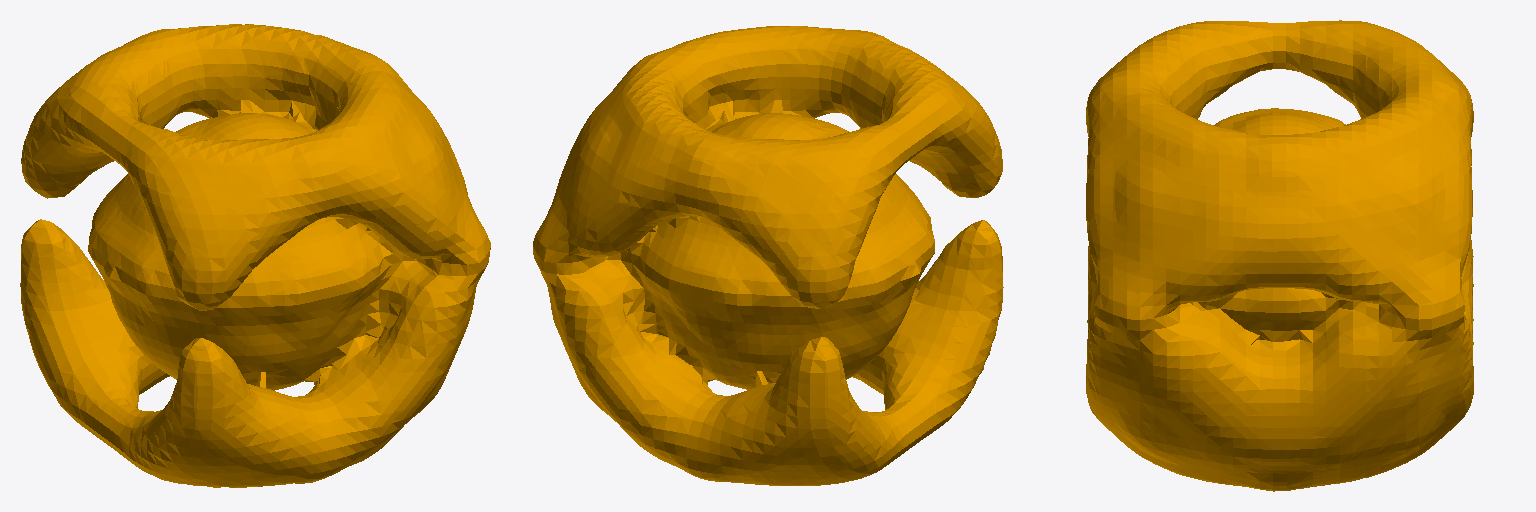
robot.urdf — object:
<?xml version="1.0"?>
<robot name="object">
  <link name="object">
    <visual>
      <origin xyz="0 0 0"/>
      <geometry>
        <mesh filename="meshes/subset_100_scaled/egad_F15_3_s.obj" scale=".03 .03 .03"/>
      </geometry>
    </visual>
    <collision>
  <origin xyz="0 0 0"/>
  <geometry>
    <mesh filename="meshes/subset_100_scaled/egad_F15_3_s_0decompose.obj" scale=".03 .03 .03"/>
<!--          <mesh filename="meshes/custom/obj0_ball.obj" scale=".05 .05 .05"/>-->
  </geometry>
</collision><collision>
  <origin xyz="0 0 0"/>
  <geometry>
    <mesh filename="meshes/subset_100_scaled/egad_F15_3_s_1decompose.obj" scale=".03 .03 .03"/>
<!--          <mesh filename="meshes/custom/obj0_ball.obj" scale=".05 .05 .05"/>-->
  </geometry>
</collision><collision>
  <origin xyz="0 0 0"/>
  <geometry>
    <mesh filename="meshes/subset_100_scaled/egad_F15_3_s_2decompose.obj" scale=".03 .03 .03"/>
<!--          <mesh filename="meshes/custom/obj0_ball.obj" scale=".05 .05 .05"/>-->
  </geometry>
</collision><collision>
  <origin xyz="0 0 0"/>
  <geometry>
    <mesh filename="meshes/subset_100_scaled/egad_F15_3_s_3decompose.obj" scale=".03 .03 .03"/>
<!--          <mesh filename="meshes/custom/obj0_ball.obj" scale=".05 .05 .05"/>-->
  </geometry>
</collision><collision>
  <origin xyz="0 0 0"/>
  <geometry>
    <mesh filename="meshes/subset_100_scaled/egad_F15_3_s_4decompose.obj" scale=".03 .03 .03"/>
<!--          <mesh filename="meshes/custom/obj0_ball.obj" scale=".05 .05 .05"/>-->
  </geometry>
</collision><collision>
  <origin xyz="0 0 0"/>
  <geometry>
    <mesh filename="meshes/subset_100_scaled/egad_F15_3_s_5decompose.obj" scale=".03 .03 .03"/>
<!--          <mesh filename="meshes/custom/obj0_ball.obj" scale=".05 .05 .05"/>-->
  </geometry>
</collision><collision>
  <origin xyz="0 0 0"/>
  <geometry>
    <mesh filename="meshes/subset_100_scaled/egad_F15_3_s_6decompose.obj" scale=".03 .03 .03"/>
<!--          <mesh filename="meshes/custom/obj0_ball.obj" scale=".05 .05 .05"/>-->
  </geometry>
</collision><collision>
  <origin xyz="0 0 0"/>
  <geometry>
    <mesh filename="meshes/subset_100_scaled/egad_F15_3_s_7decompose.obj" scale=".03 .03 .03"/>
<!--          <mesh filename="meshes/custom/obj0_ball.obj" scale=".05 .05 .05"/>-->
  </geometry>
</collision><collision>
  <origin xyz="0 0 0"/>
  <geometry>
    <mesh filename="meshes/subset_100_scaled/egad_F15_3_s_8decompose.obj" scale=".03 .03 .03"/>
<!--          <mesh filename="meshes/custom/obj0_ball.obj" scale=".05 .05 .05"/>-->
  </geometry>
</collision><collision>
  <origin xyz="0 0 0"/>
  <geometry>
    <mesh filename="meshes/subset_100_scaled/egad_F15_3_s_9decompose.obj" scale=".03 .03 .03"/>
<!--          <mesh filename="meshes/custom/obj0_ball.obj" scale=".05 .05 .05"/>-->
  </geometry>
</collision><collision>
  <origin xyz="0 0 0"/>
  <geometry>
    <mesh filename="meshes/subset_100_scaled/egad_F15_3_s_10decompose.obj" scale=".03 .03 .03"/>
<!--          <mesh filename="meshes/custom/obj0_ball.obj" scale=".05 .05 .05"/>-->
  </geometry>
</collision><collision>
  <origin xyz="0 0 0"/>
  <geometry>
    <mesh filename="meshes/subset_100_scaled/egad_F15_3_s_11decompose.obj" scale=".03 .03 .03"/>
<!--          <mesh filename="meshes/custom/obj0_ball.obj" scale=".05 .05 .05"/>-->
  </geometry>
</collision><collision>
  <origin xyz="0 0 0"/>
  <geometry>
    <mesh filename="meshes/subset_100_scaled/egad_F15_3_s_12decompose.obj" scale=".03 .03 .03"/>
<!--          <mesh filename="meshes/custom/obj0_ball.obj" scale=".05 .05 .05"/>-->
  </geometry>
</collision><collision>
  <origin xyz="0 0 0"/>
  <geometry>
    <mesh filename="meshes/subset_100_scaled/egad_F15_3_s_13decompose.obj" scale=".03 .03 .03"/>
<!--          <mesh filename="meshes/custom/obj0_ball.obj" scale=".05 .05 .05"/>-->
  </geometry>
</collision><collision>
  <origin xyz="0 0 0"/>
  <geometry>
    <mesh filename="meshes/subset_100_scaled/egad_F15_3_s_14decompose.obj" scale=".03 .03 .03"/>
<!--          <mesh filename="meshes/custom/obj0_ball.obj" scale=".05 .05 .05"/>-->
  </geometry>
</collision><collision>
  <origin xyz="0 0 0"/>
  <geometry>
    <mesh filename="meshes/subset_100_scaled/egad_F15_3_s_15decompose.obj" scale=".03 .03 .03"/>
<!--          <mesh filename="meshes/custom/obj0_ball.obj" scale=".05 .05 .05"/>-->
  </geometry>
</collision><collision>
  <origin xyz="0 0 0"/>
  <geometry>
    <mesh filename="meshes/subset_100_scaled/egad_F15_3_s_16decompose.obj" scale=".03 .03 .03"/>
<!--          <mesh filename="meshes/custom/obj0_ball.obj" scale=".05 .05 .05"/>-->
  </geometry>
</collision><collision>
  <origin xyz="0 0 0"/>
  <geometry>
    <mesh filename="meshes/subset_100_scaled/egad_F15_3_s_17decompose.obj" scale=".03 .03 .03"/>
<!--          <mesh filename="meshes/custom/obj0_ball.obj" scale=".05 .05 .05"/>-->
  </geometry>
</collision><collision>
  <origin xyz="0 0 0"/>
  <geometry>
    <mesh filename="meshes/subset_100_scaled/egad_F15_3_s_18decompose.obj" scale=".03 .03 .03"/>
<!--          <mesh filename="meshes/custom/obj0_ball.obj" scale=".05 .05 .05"/>-->
  </geometry>
</collision><collision>
  <origin xyz="0 0 0"/>
  <geometry>
    <mesh filename="meshes/subset_100_scaled/egad_F15_3_s_19decompose.obj" scale=".03 .03 .03"/>
<!--          <mesh filename="meshes/custom/obj0_ball.obj" scale=".05 .05 .05"/>-->
  </geometry>
</collision><collision>
  <origin xyz="0 0 0"/>
  <geometry>
    <mesh filename="meshes/subset_100_scaled/egad_F15_3_s_20decompose.obj" scale=".03 .03 .03"/>
<!--          <mesh filename="meshes/custom/obj0_ball.obj" scale=".05 .05 .05"/>-->
  </geometry>
</collision><collision>
  <origin xyz="0 0 0"/>
  <geometry>
    <mesh filename="meshes/subset_100_scaled/egad_F15_3_s_21decompose.obj" scale=".03 .03 .03"/>
<!--          <mesh filename="meshes/custom/obj0_ball.obj" scale=".05 .05 .05"/>-->
  </geometry>
</collision>

<!--    <collision>-->
<!--      <origin xyz="0 0 0"/>-->
<!--      <geometry>-->
<!--        <mesh filename="meshes/subset_100_scaled/egad_F15_3_s.obj" scale=".03 .03 .03"/>-->
<!--&lt;!&ndash;          <mesh filename="meshes/custom/obj0_ball.obj" scale=".05 .05 .05"/>&ndash;&gt;-->
<!--      </geometry>-->
<!--    </collision>-->
    <inertial>
      <density value="1000.0"/>
    </inertial>
  </link>
</robot>

--- What the picture shows (computed from the rendered views, not written in the file) ---
The picture shows the robot from 3 angles, left to right: view 1: azimuth 30°, elevation 25°; view 2: azimuth 150°, elevation 25°; view 3: azimuth 270°, elevation 25°; orthographic projection.
Model object with 1 links and 0 joints (none), rooted at object, posed every joint at zero.
Visible links, largest first — view 1: object; view 2: object; view 3: object.
Link boxes in pixels (x1,y1,x2,y2): object: (20, 24, 490, 487); object: (533, 26, 1003, 485); object: (1086, 20, 1473, 491).
Bounding box of the posed robot: 0.06 × 0.06 × 0.06 m (x, y, z).
Meshes: 1 distinct files referenced, 1 mesh visuals loaded (1 OBJ).
